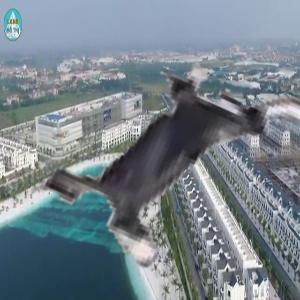drone: (12, 9, 300, 297)
